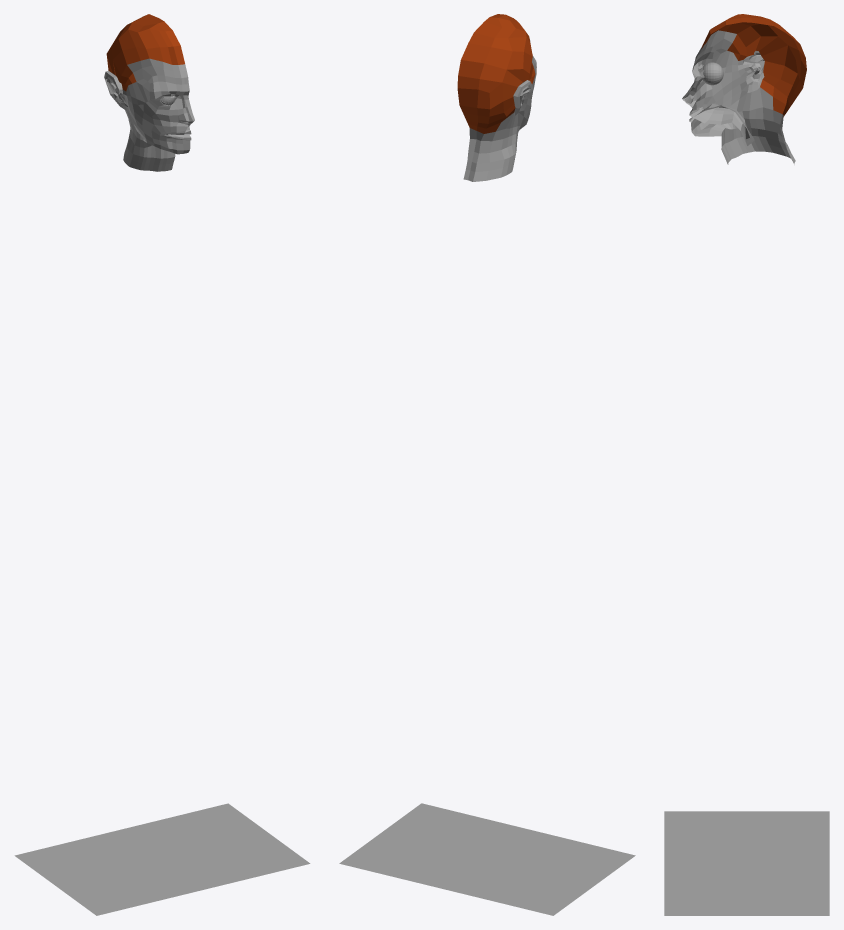
The model's file is human-5ft4-7.5-poikilos.obj.
3 views of the same model, side by side, from view 1: azimuth 30°, elevation 25°; view 2: azimuth 150°, elevation 25°; view 3: azimuth 270°, elevation 25° (orthographic).
Parts seen in each view (by area): view 1: Plane; view 2: Plane; view 3: Plane, player5ft4.
Boxes of the visible parts, <box> form: Plane: <box>14,14,310,915</box>; Plane: <box>339,14,635,915</box>; Plane: <box>664,14,829,915</box>; player5ft4: <box>703,62,723,85</box>.
Bounding box in the file's own units: 0.4389 × 1.65 × 0.2928.
